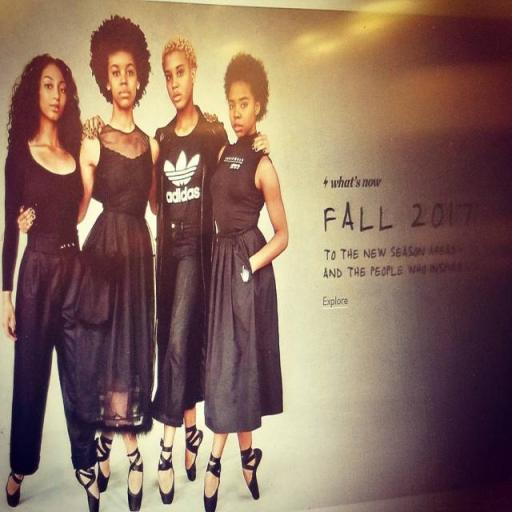Adidas: (161, 148, 203, 205)
